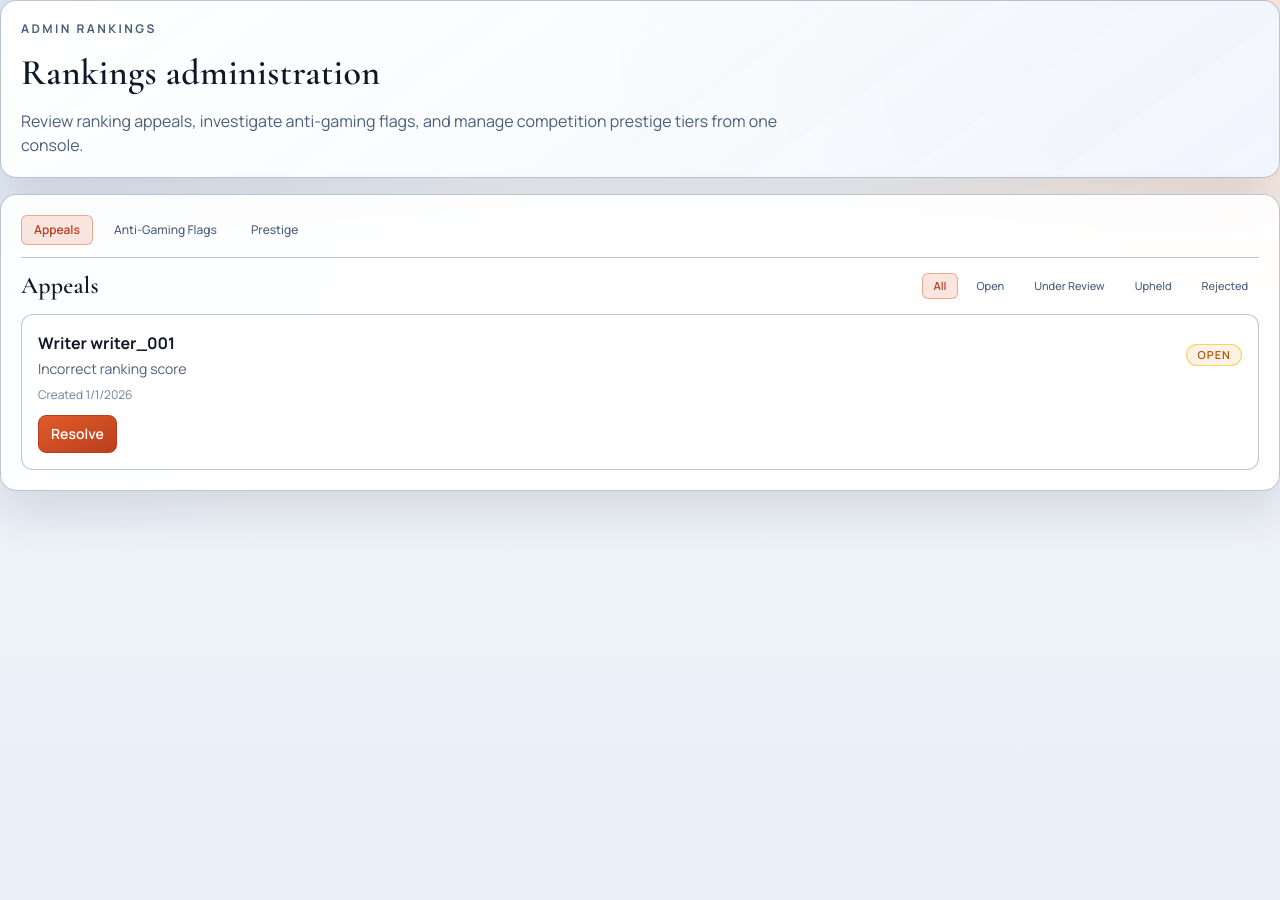
Test case: AdminRankingsPage › shows error toast when appeal resolve fails
The image size is (1280, 900).
Expected: the text "Incorrect ranking score" is shown, left=38, top=359, right=186, bottom=379
Step 1. Click the button "Resolve" → coordinates (77, 434), box left=38, top=415, right=117, bottom=453
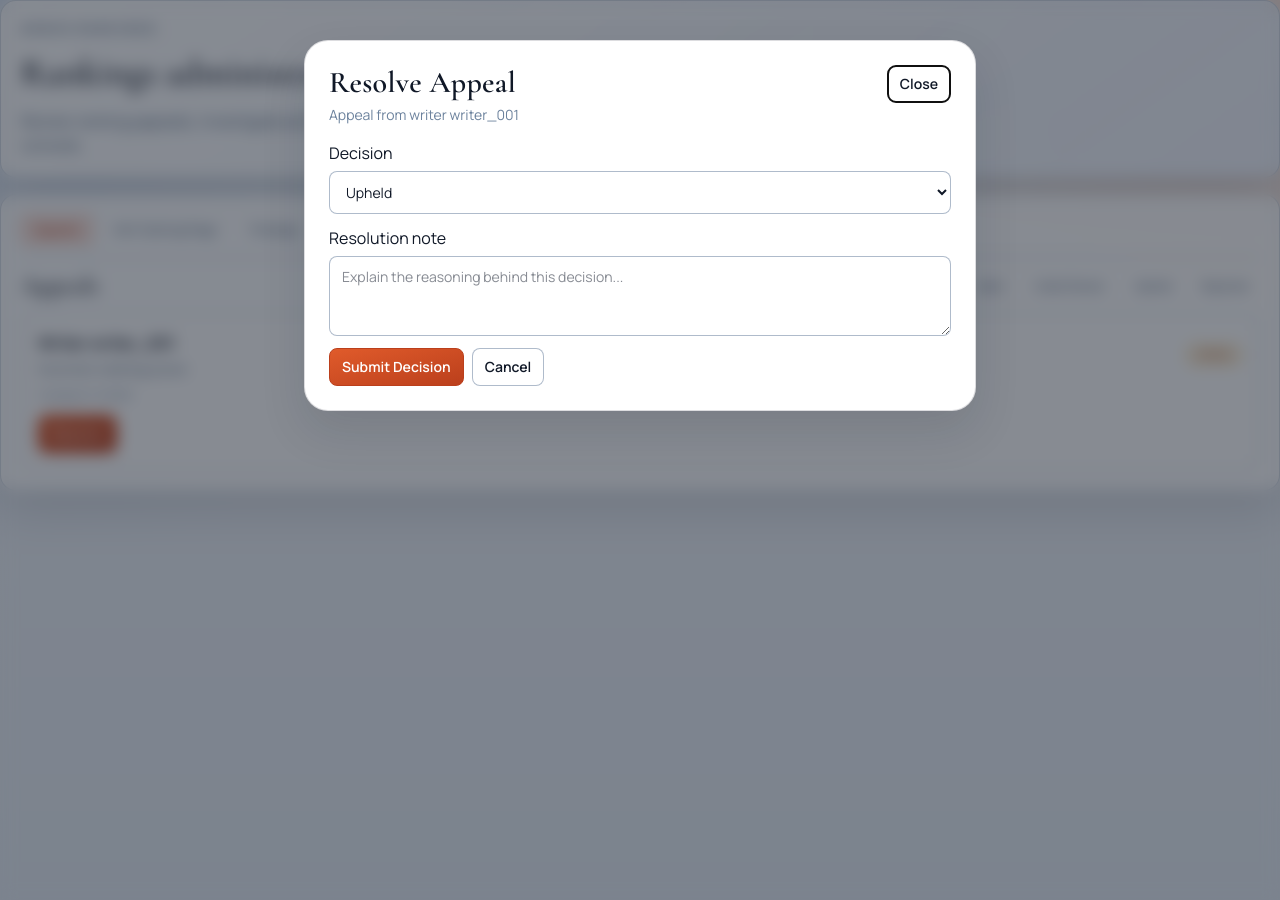
Step 2. Click the button "Submit Decision" → coordinates (396, 367), box left=329, top=348, right=464, bottom=386
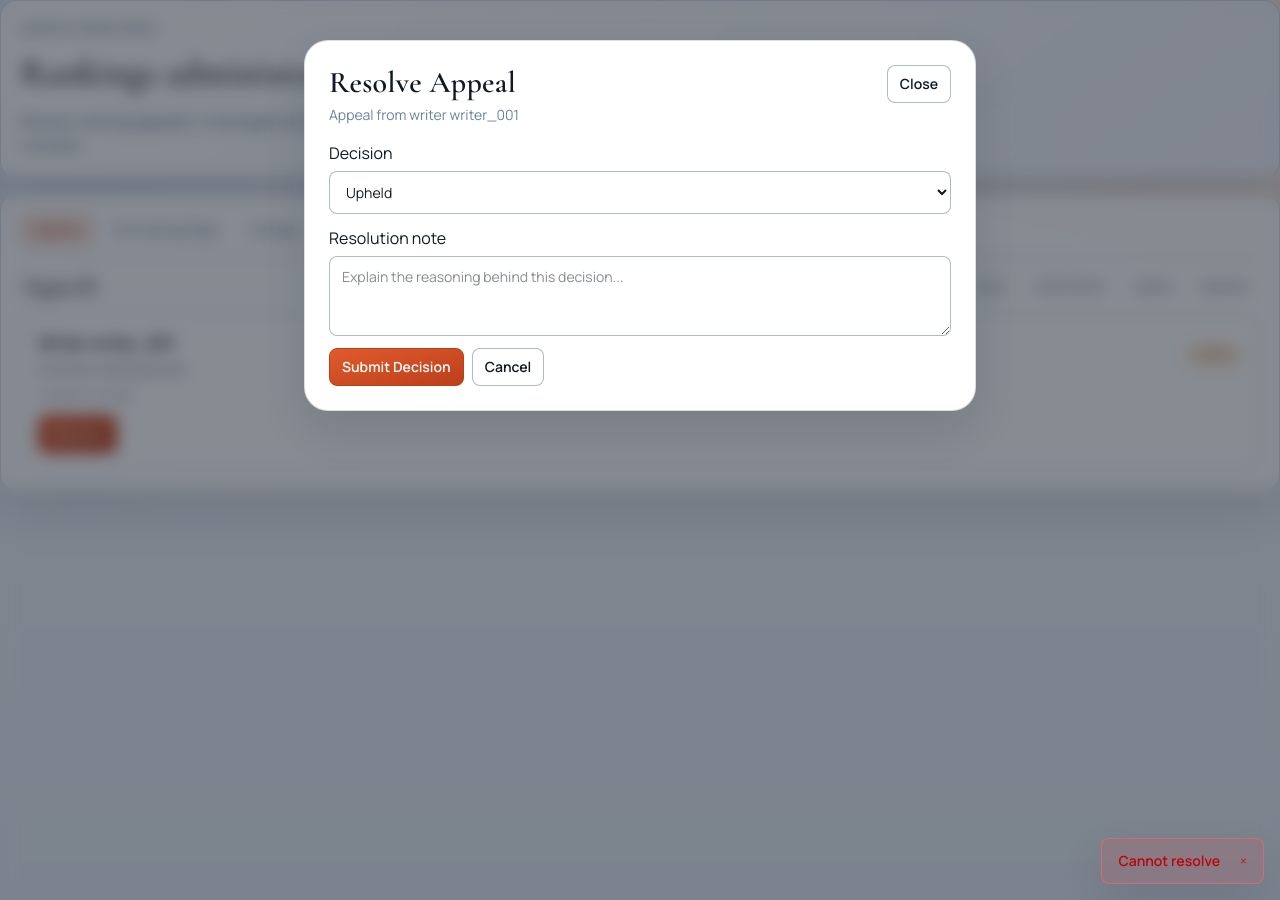
Expected: the text "Cannot resolve" is shown, left=1118, top=851, right=1220, bottom=871
